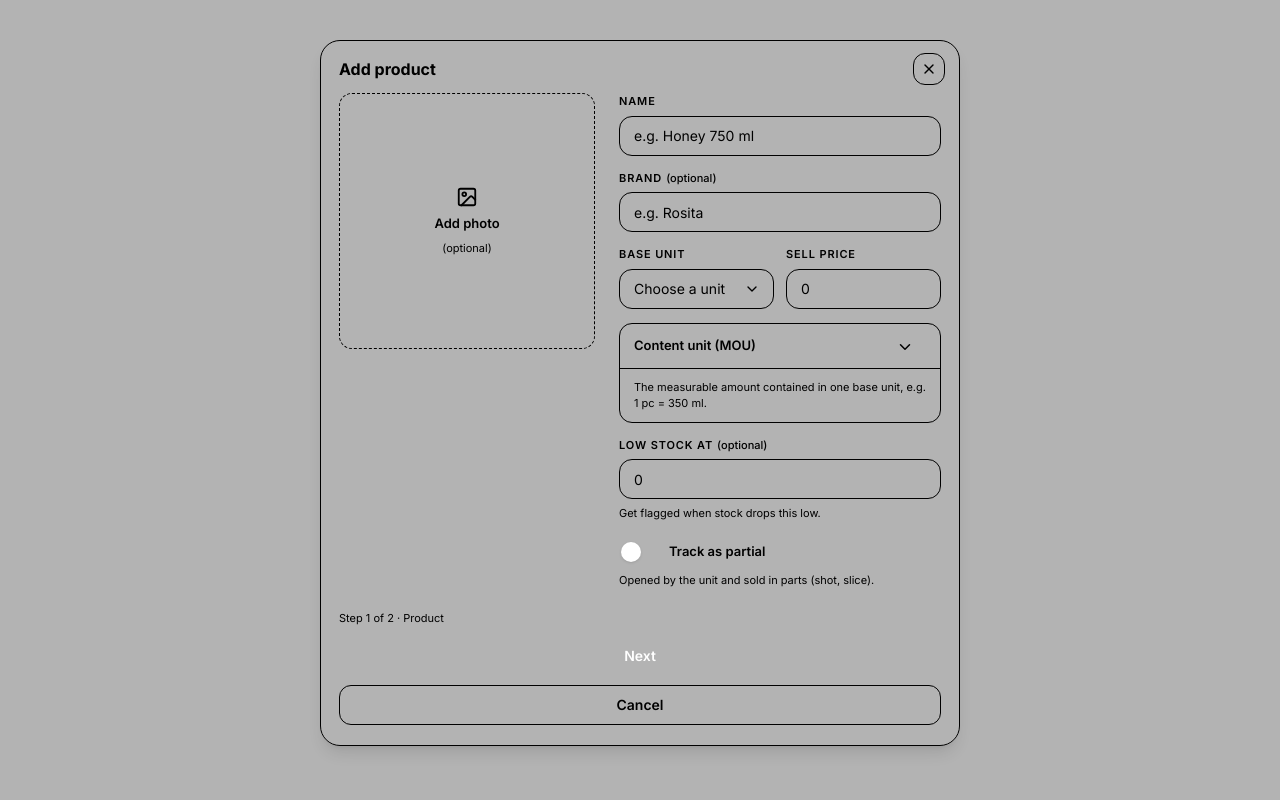
it: AddProductDialog › clears the conversion rate error when the content unit is unset
Expected: the text "Content unit (MOU)" is shown, [634,336,756,355]
Type "Honey" into the field labelled "Name" at [780, 136], box [619,116,941,156]
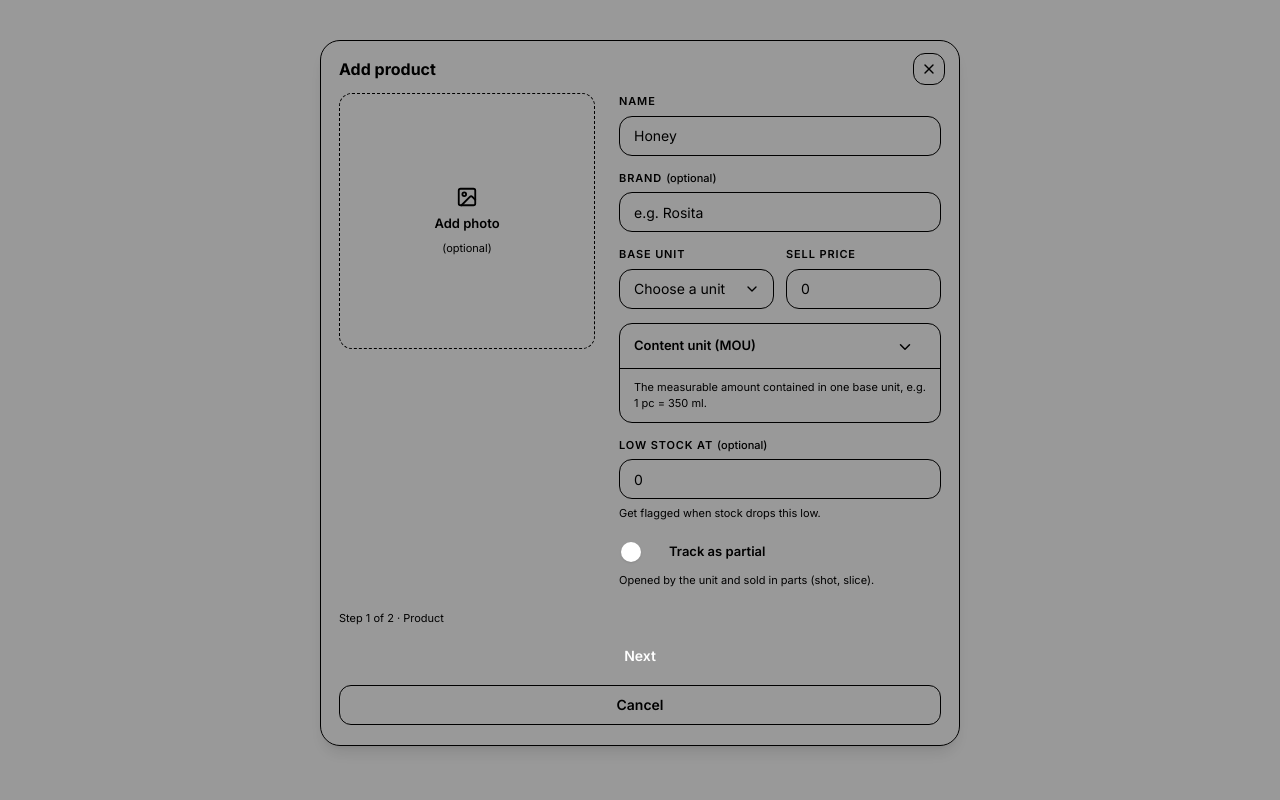
Type "250" into the field labelled "Sell price" at [864, 288], box [786,268,941,308]
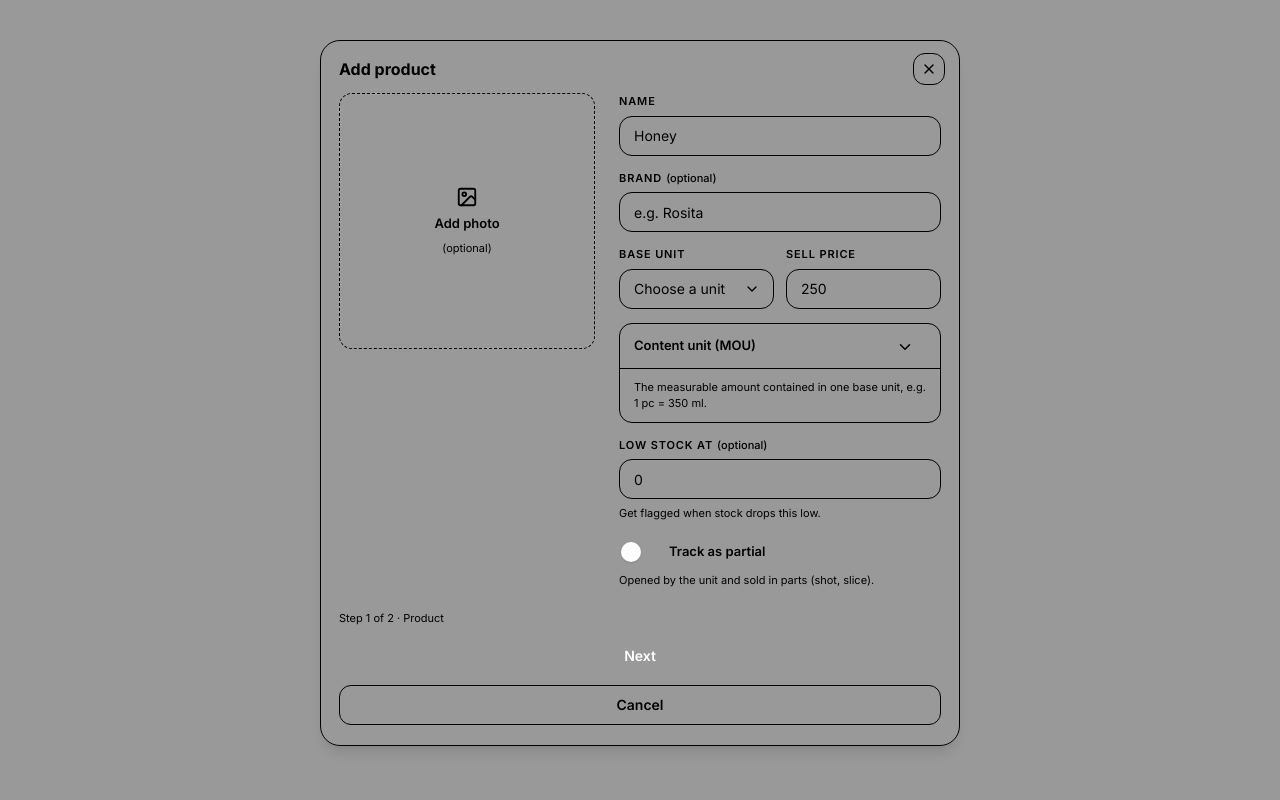
Select "Kilogram (kg)" in the dropdown labelled "Base unit" at [696, 288], box [619,268,774,308]
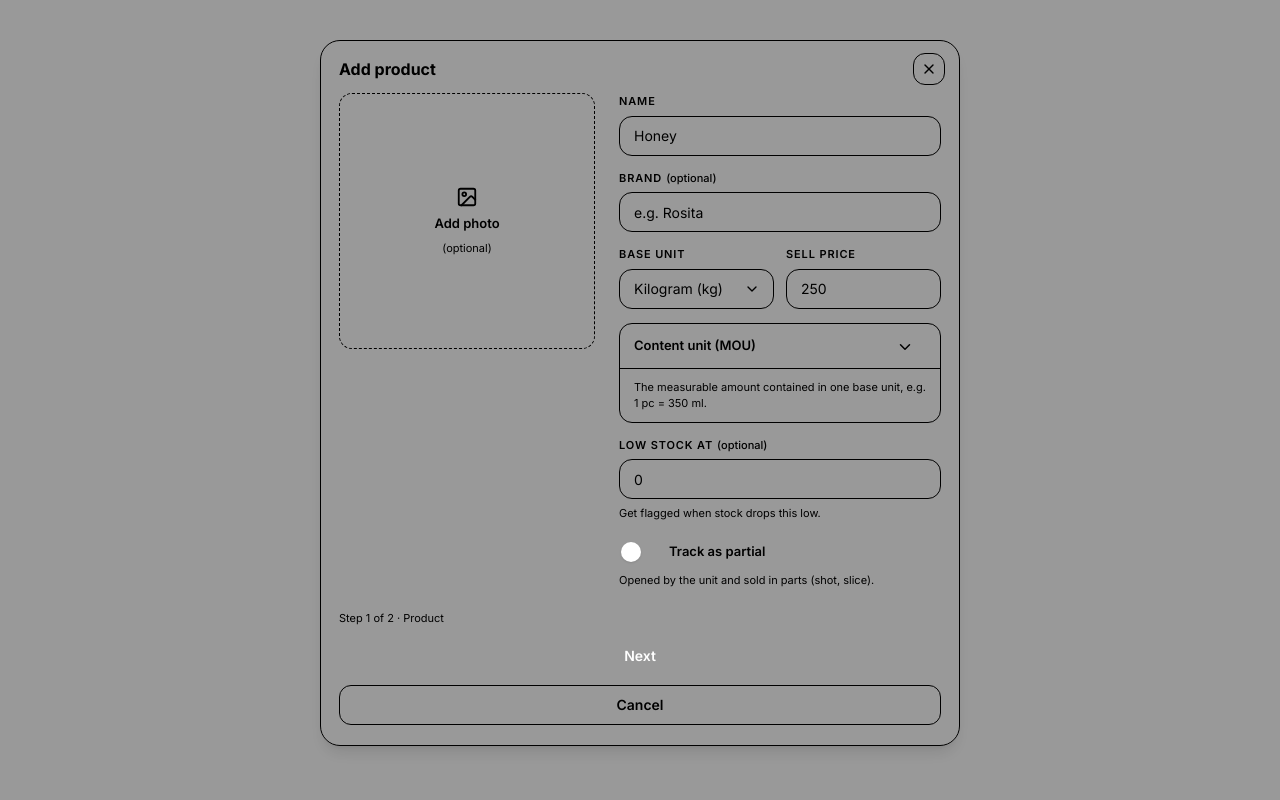
Click the button "Content unit (MOU)" at [695, 344], box [620,324,928,368]
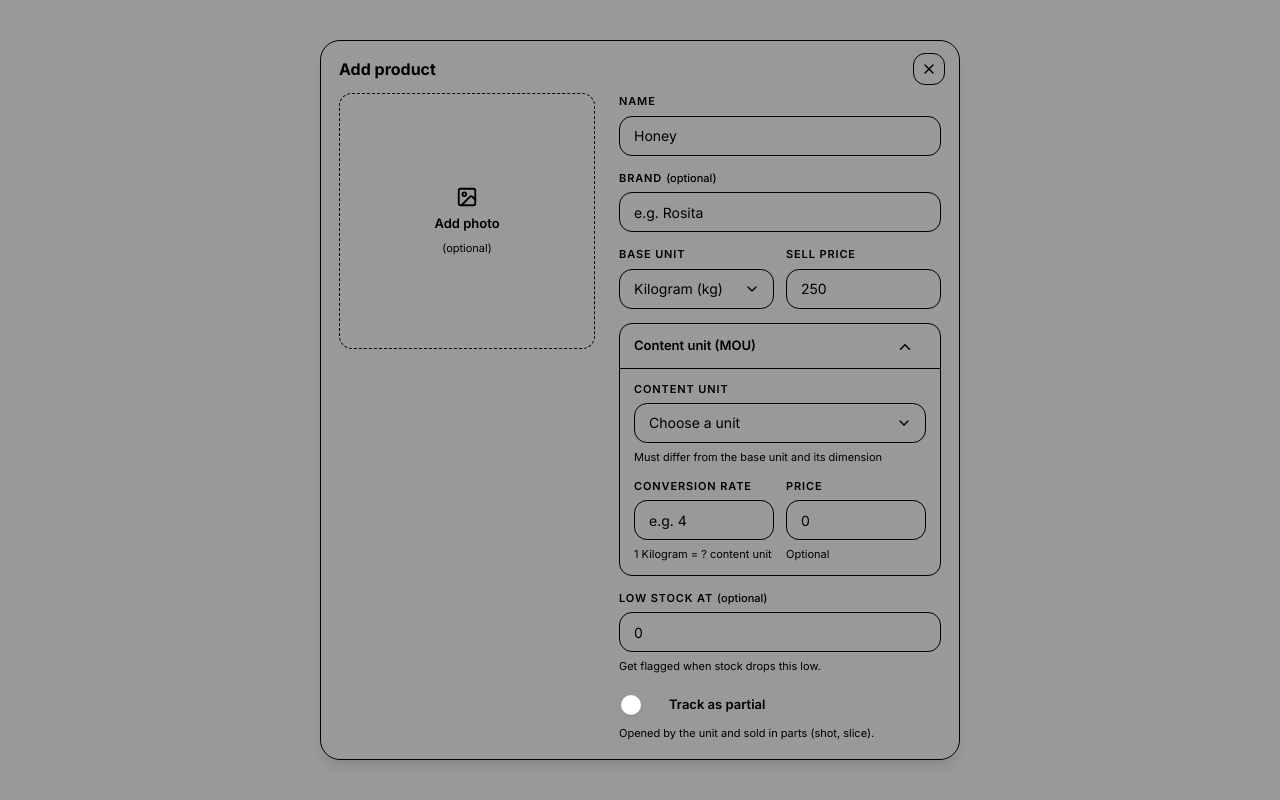
Select "Liter (L)" in the dropdown labelled "Content unit" at [780, 423], box [634,403,926,443]
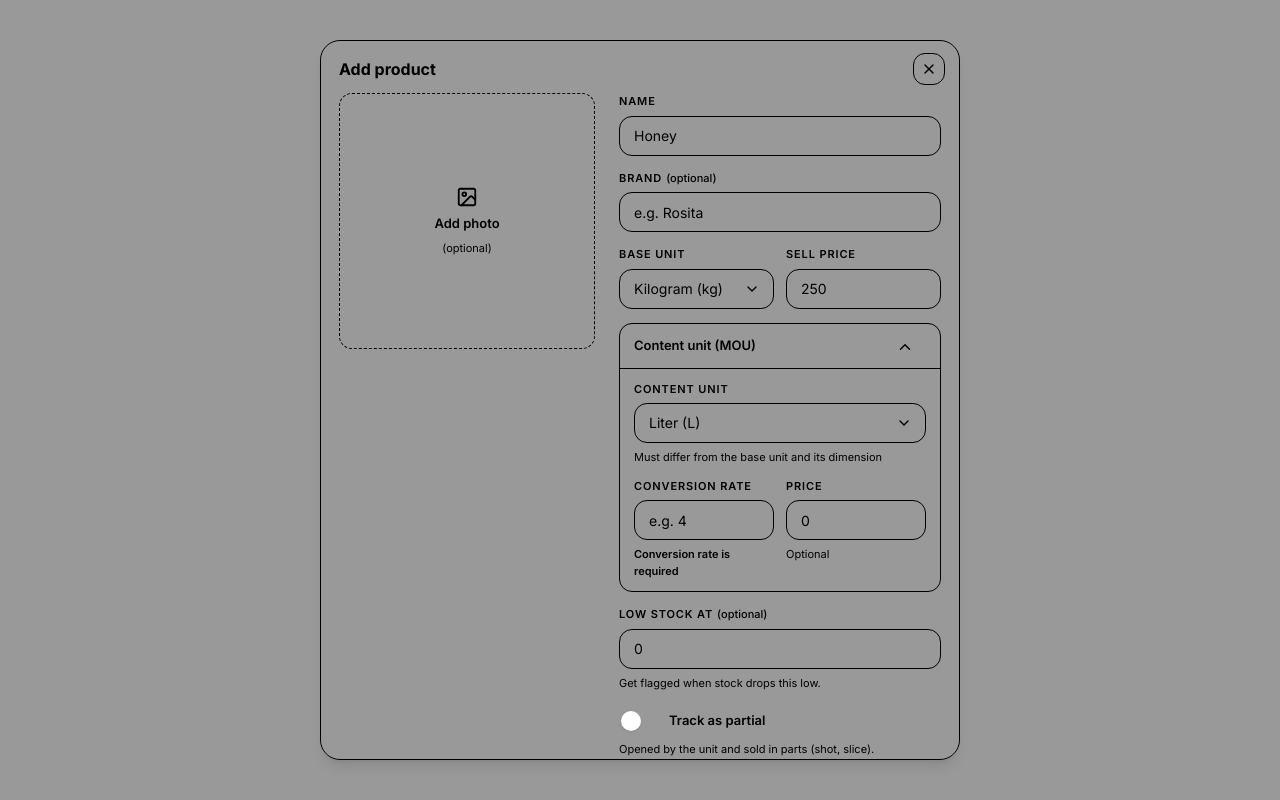
Result: the message "Conversion rate is required" is shown at [634,547,730,578]
Select "Choose a unit" in the dropdown labelled "Content unit" at [780, 423], box [634,403,926,443]
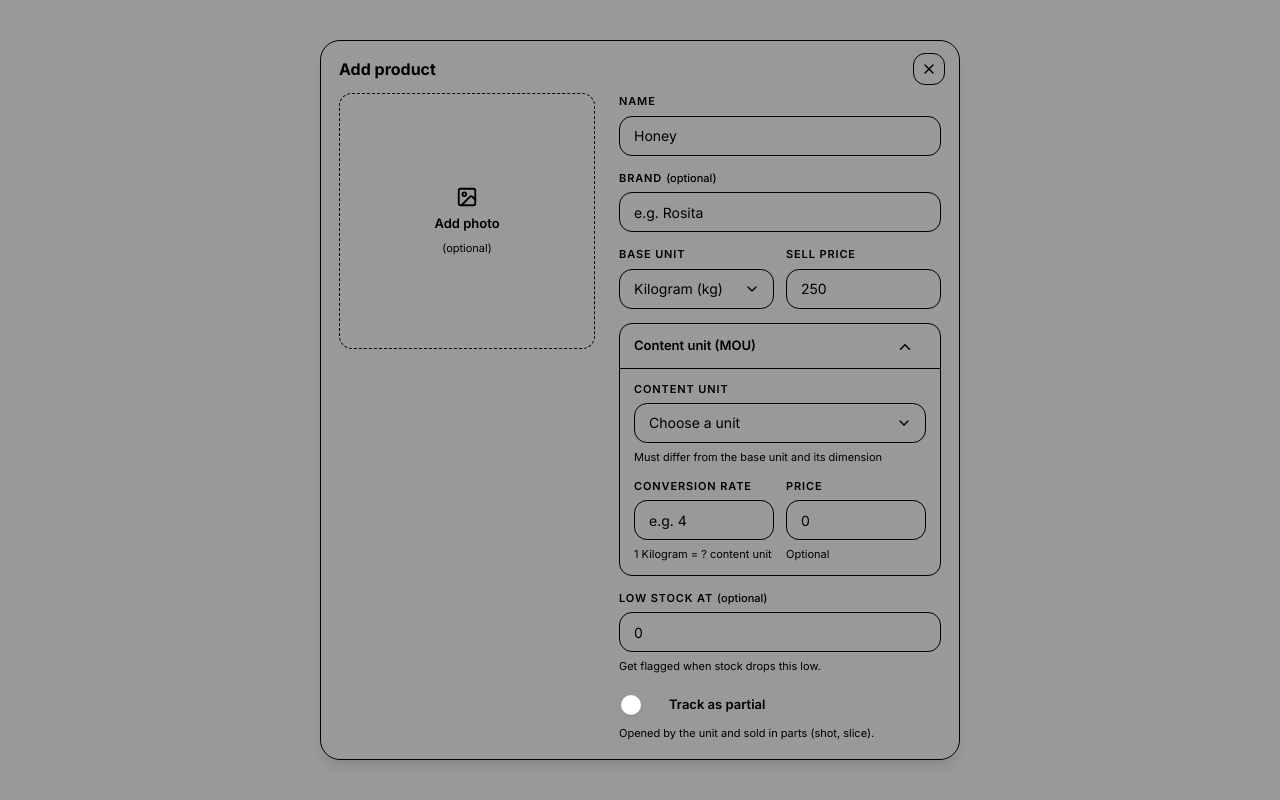
Result: the message "Conversion rate is required" is gone
